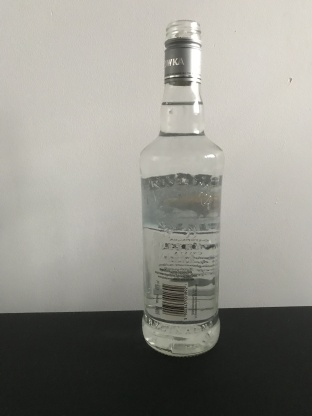nakretka: (162, 18, 203, 86)
